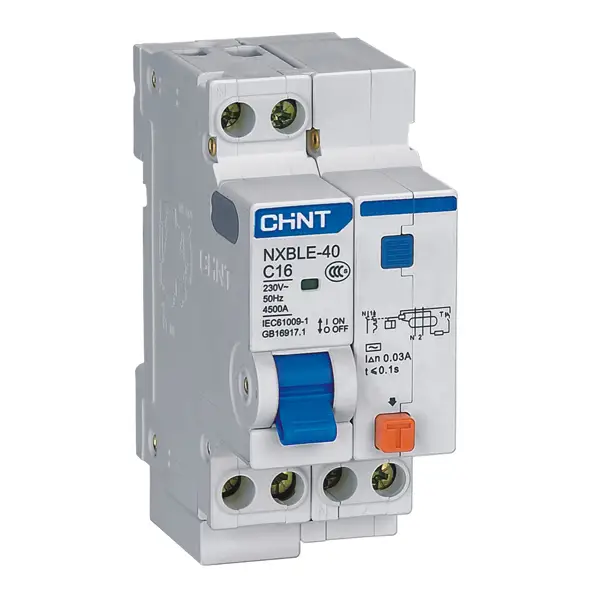BREACKER: (124, 26, 474, 574)
